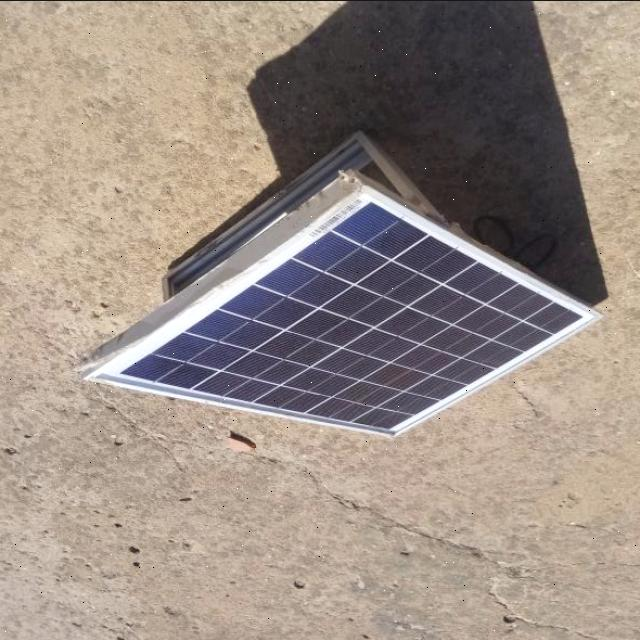Normal Solar Panel: (93, 182, 606, 436)
